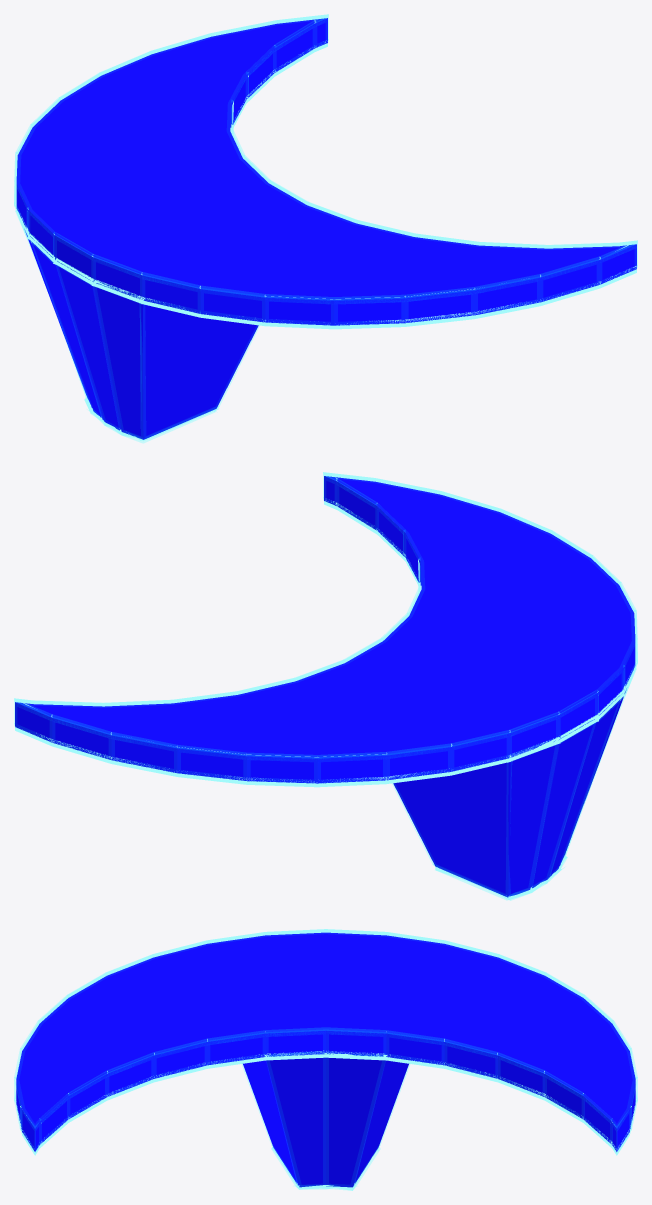
File: whitetablemodel.fbx
The picture shows the model from 3 angles, top to bottom: view 1: azimuth 30°, elevation 25°; view 2: azimuth 150°, elevation 25°; view 3: azimuth 270°, elevation 25°; orthographic projection. The views are drawn at different scales.
Parts seen in each view (by area): view 1: Cylinder; view 2: Cylinder; view 3: Cylinder.
Boxes of the visible parts, x1,y1,x2,y2 form: Cylinder: (14,14,637,442); Cylinder: (14,472,637,900); Cylinder: (14,929,637,1190).
Bounding box in the file's own units: 2.42 × 1.81 × 0.83.
